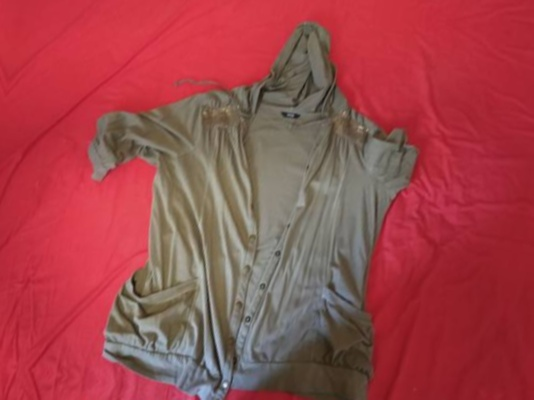Hoodie: (26, 0, 455, 400), (0, 382, 383, 400), (99, 0, 527, 7)
